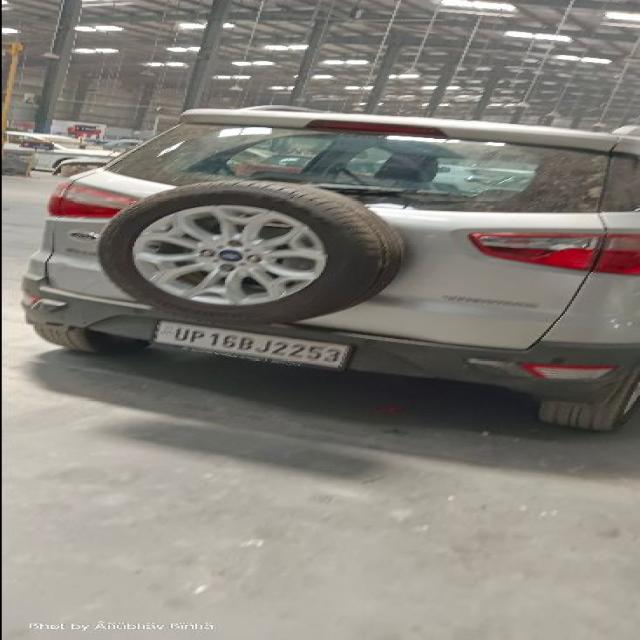license_plate: (152, 319, 354, 372)
